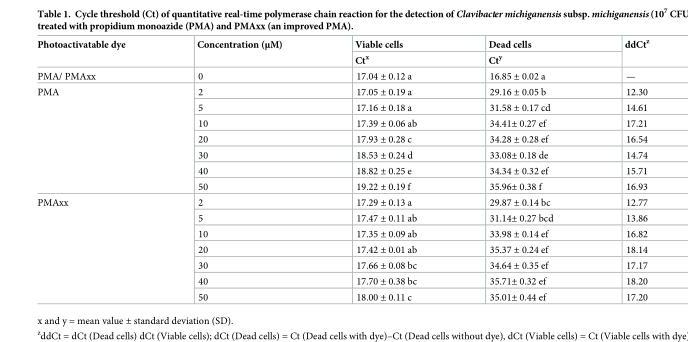table: (36, 37, 648, 303)
table column: (160, 37, 317, 303), (451, 37, 588, 303), (317, 37, 451, 303), (36, 37, 160, 303), (588, 37, 648, 303)
table column header: (36, 37, 648, 67)
table row: (36, 51, 648, 67), (36, 67, 648, 83), (36, 83, 648, 99), (36, 99, 648, 115), (36, 130, 648, 146), (36, 146, 648, 162), (36, 162, 648, 178), (36, 178, 648, 194), (36, 209, 648, 225), (36, 225, 648, 241), (36, 241, 648, 257), (36, 272, 648, 288), (36, 115, 648, 130), (36, 194, 648, 209), (36, 257, 648, 272), (36, 288, 648, 303), (36, 37, 648, 51)
table spanning cell: (36, 83, 160, 194), (36, 194, 160, 303), (160, 37, 317, 67), (451, 37, 588, 67), (317, 37, 451, 67), (36, 37, 160, 67), (588, 37, 648, 67)
